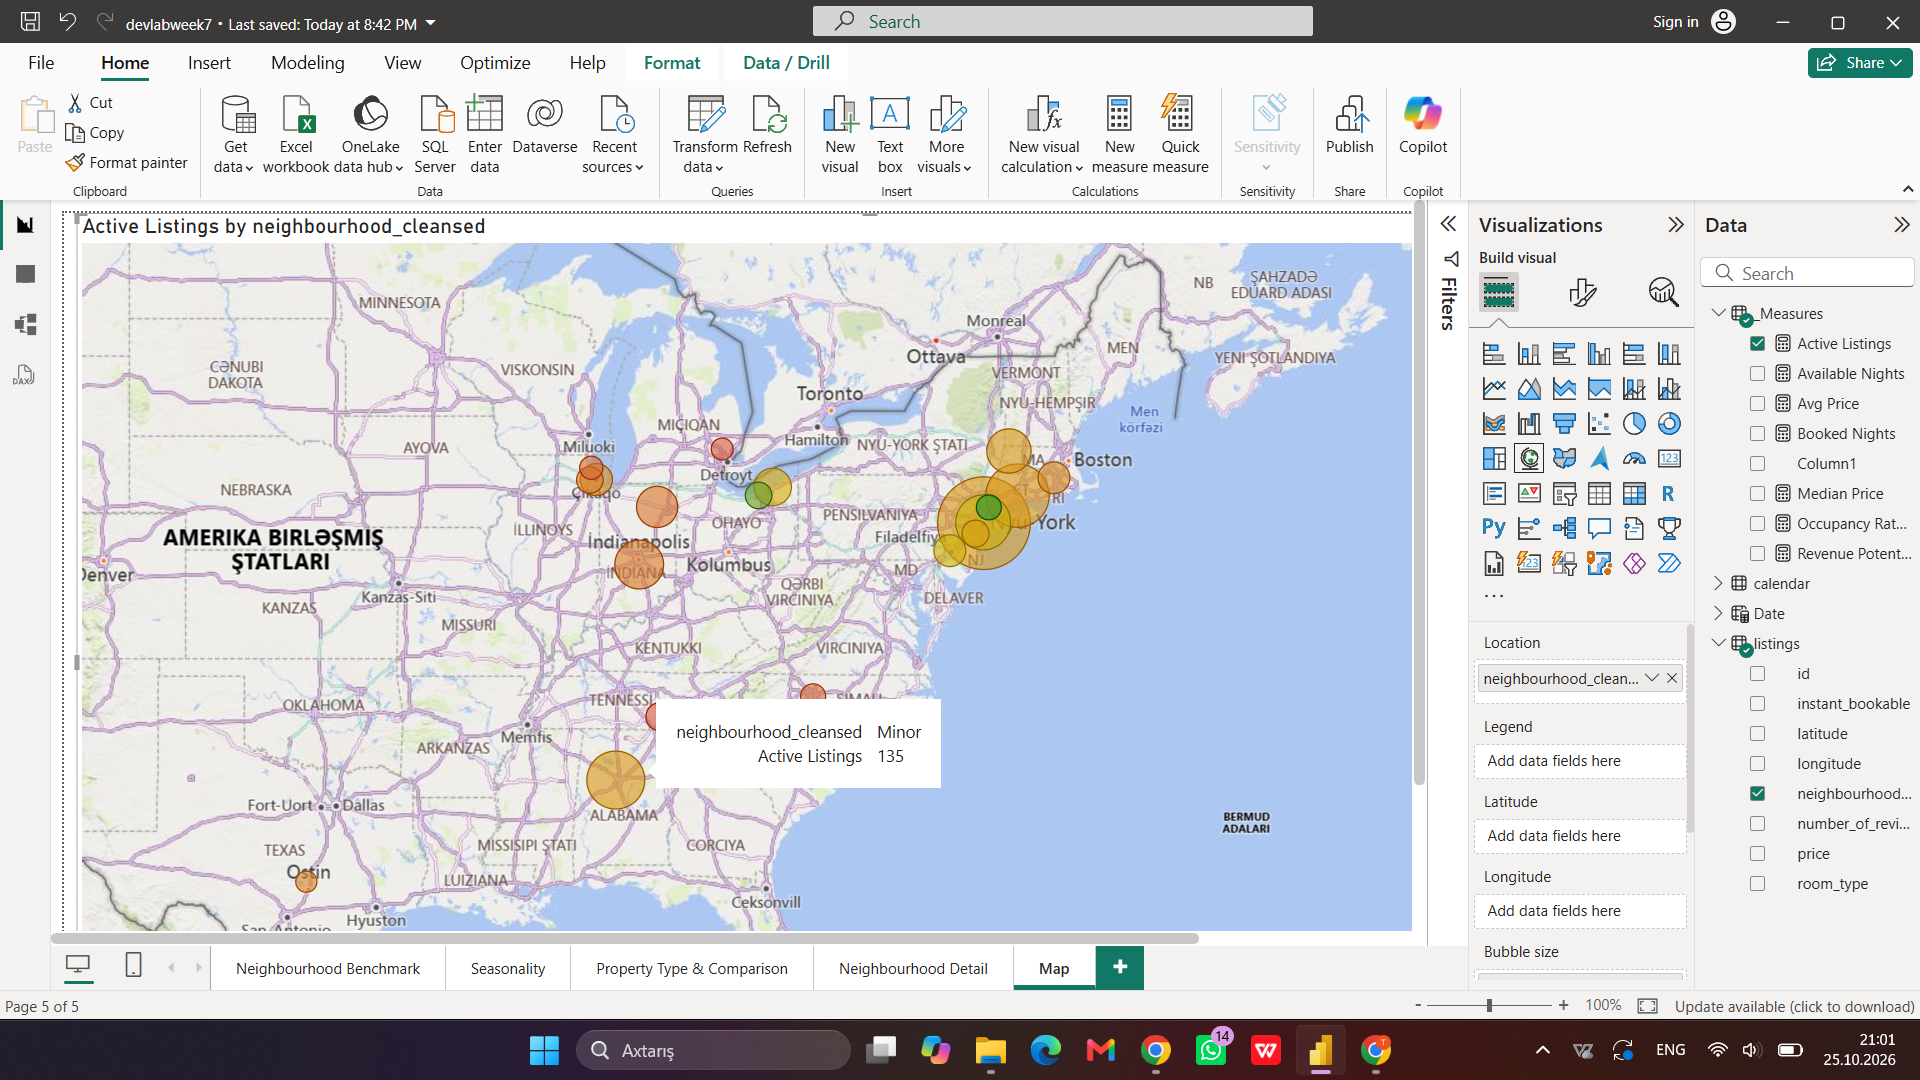

The dashboard page shown, as its layout file describes it:
{"tool":"powerbi","page":{"name":"Map","canvas":[1280,720],"ordinal":4},"visuals":[{"type":"map","fields":{"Size":["_Measures.Active Listings"],"Category":["listings.neighbourhood_cleansed"]},"box":[10,0,1270,720],"z":0}]}

Visuals, with their boxes on the page's 1280x720 design canvas (x1, y1, x2, y2). These are canvas units, not pixel positions in the 1920x1080 screenshot, which may show the page scaled, cropped or inside an application window:
map - _Measures.Active Listings x listings.neighbourhood_cleansed: (10, 0, 1280, 720)
